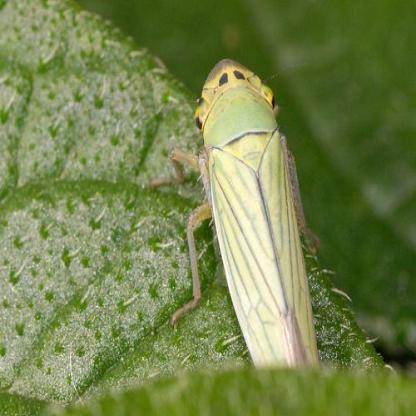Green-Leafhopper: (162, 52, 326, 373)
